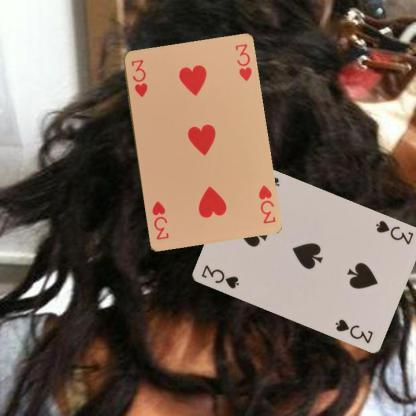3h: (255, 182, 277, 225), (128, 57, 148, 98)
3s: (198, 262, 240, 290), (373, 218, 414, 246)
